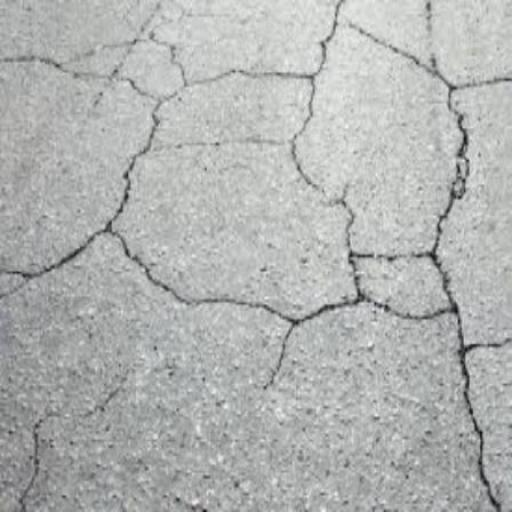spalling: (2, 227, 442, 395), (419, 6, 502, 512), (1, 47, 166, 213), (285, 2, 366, 284), (77, 33, 302, 101), (16, 406, 53, 509), (348, 22, 421, 71), (180, 131, 280, 158), (469, 72, 511, 92), (478, 332, 511, 357), (370, 249, 419, 263)
